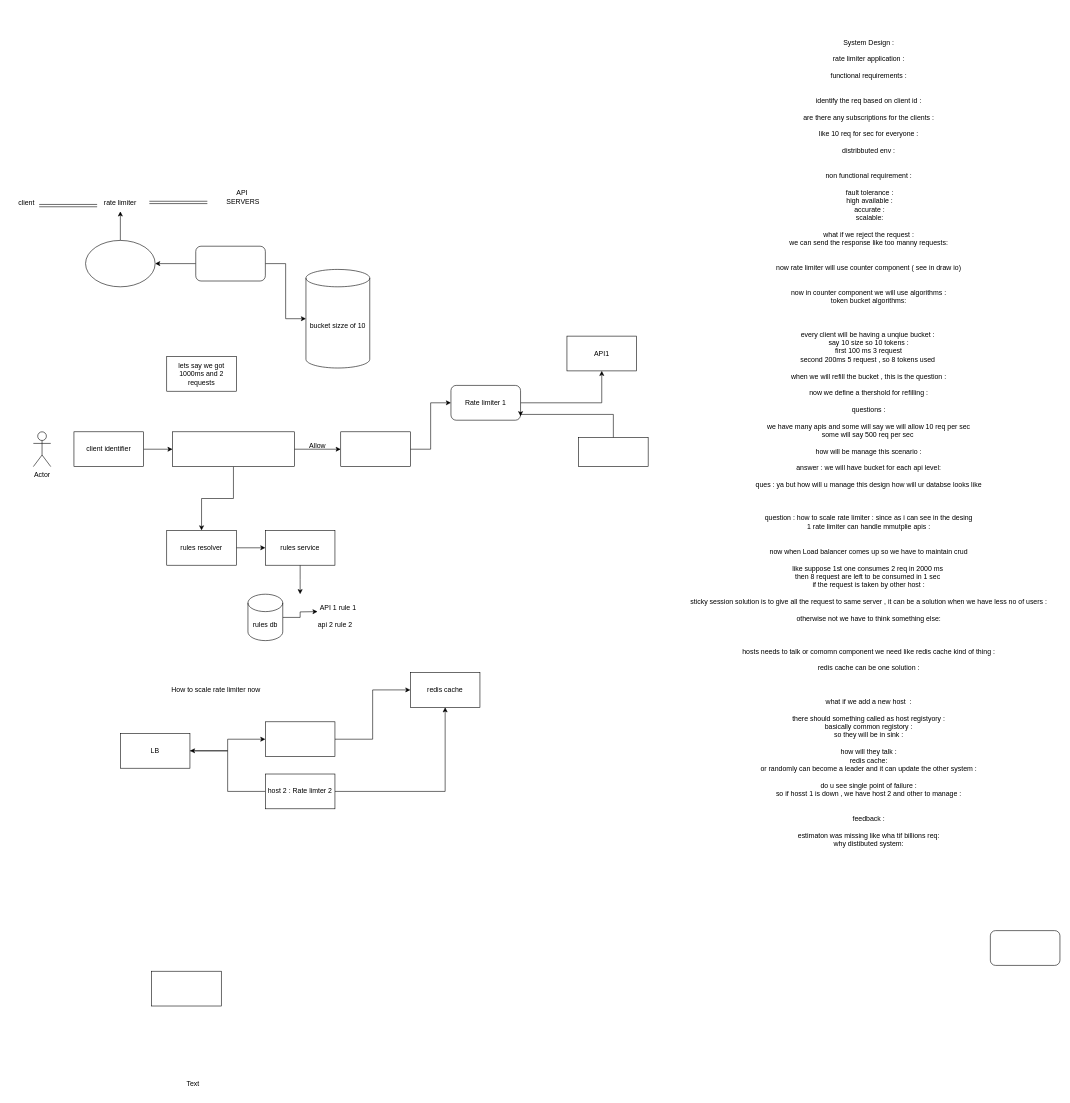
This 1070x1103 diagram has some shape labels left out. The box of each missing label's shape, as (x1, y1, x2, y2) in pixels:
API 2: (578, 437, 648, 467)
Counter Component: (85, 240, 155, 287)
host 1 : Rate limter 1: (265, 721, 335, 757)
rate limiter calculator yaha buckets banenge: (172, 431, 294, 467)
request processor: (340, 431, 410, 467)
Token bucket algo: (195, 246, 265, 281)
